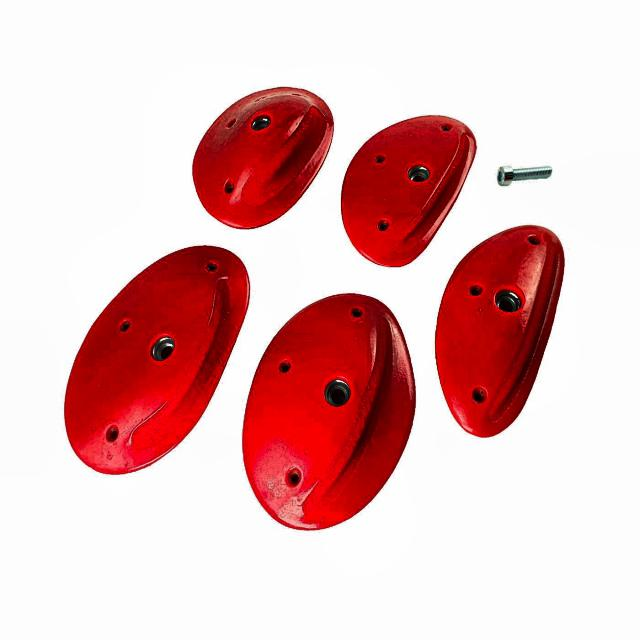Hold: (58, 243, 253, 479), (242, 294, 416, 536), (431, 221, 568, 434), (343, 115, 483, 266), (191, 87, 338, 230)
